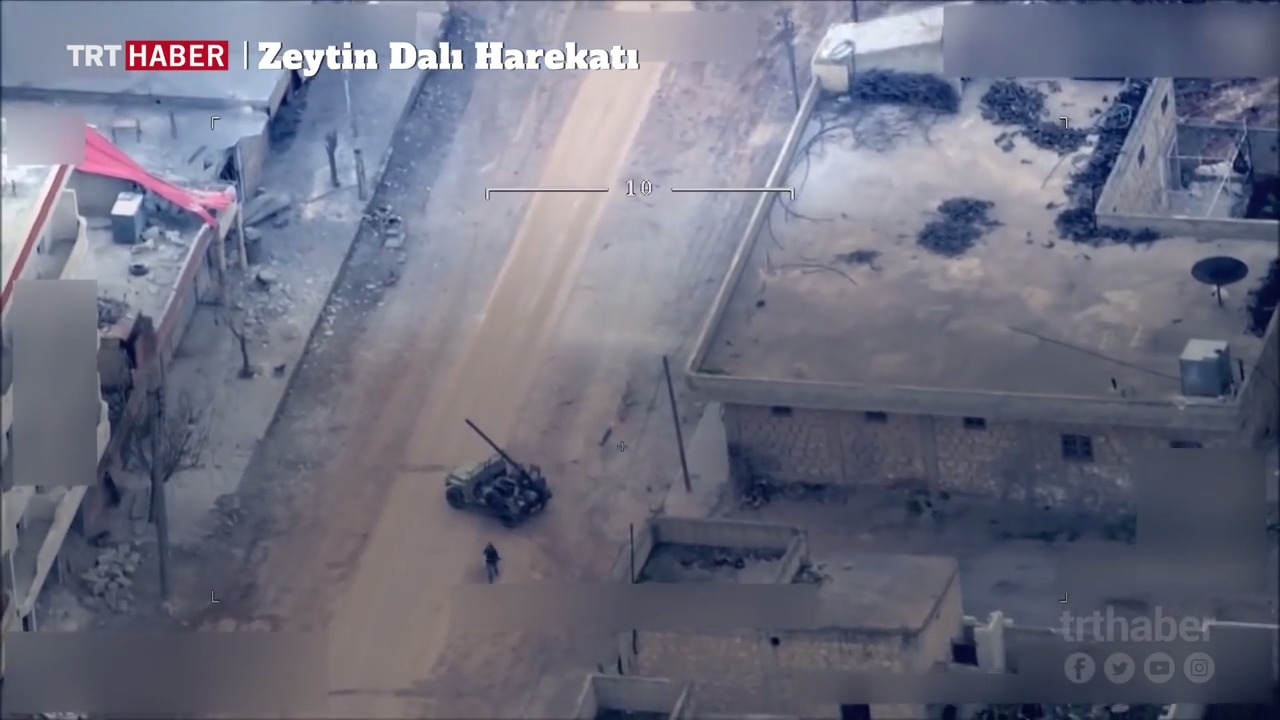arac: (443, 407, 552, 536)
insan: (477, 540, 503, 581)
